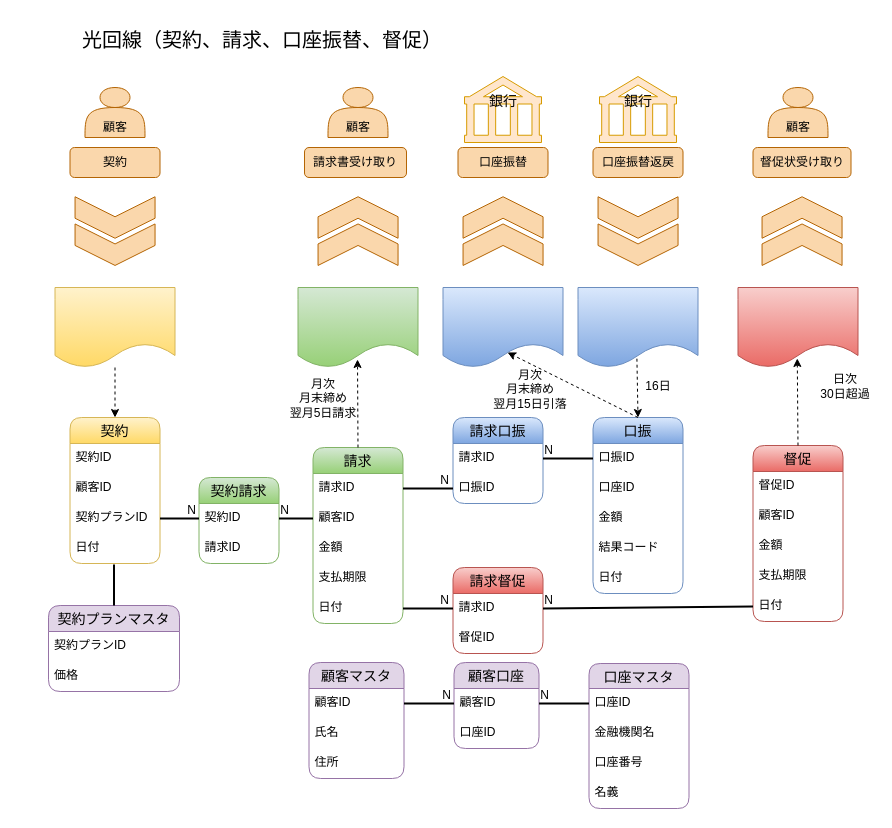
Some shapes in this 892 by 828 pixel diagram are drawn without their labels. The shapes that lost their labels are listed below. From the top down, each one's centre as x and y in pixels, then its label:
At pixel 114 327: "契約ファイル".
At pixel 357 327: "請求ファイル".
At pixel 502 327: "口振ファイル".
At pixel 637 327: "口振返戻ファイル".
At pixel 797 327: "督促ファイル".
